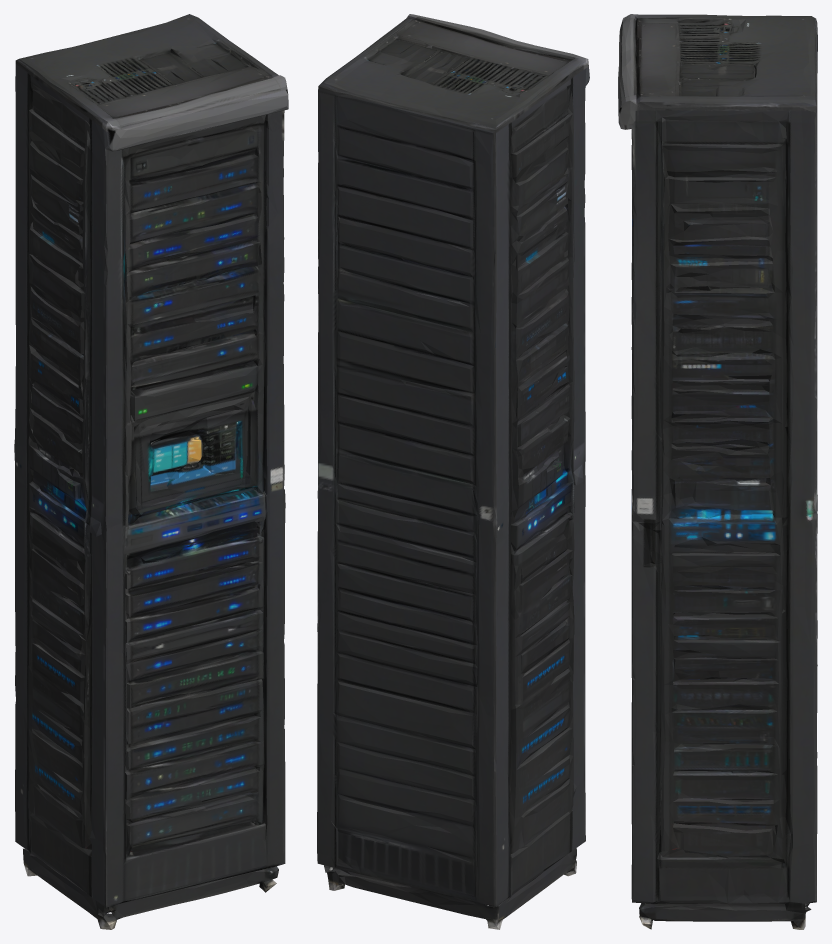
Rendered from 보안실_서버_컴퓨_0524070555_texture.fbx.
3 renders of one model, left to right at view 1: azimuth 30°, elevation 25°; view 2: azimuth 150°, elevation 25°; view 3: azimuth 270°, elevation 25°, orthographic. The views are drawn at different scales.
Parts seen in each view (by area): view 1: temp; view 2: temp; view 3: temp.
Boxes of the visible parts, bbox=[...] form: temp: bbox=[14, 14, 288, 929]; temp: bbox=[317, 14, 589, 929]; temp: bbox=[618, 14, 817, 929].
Bounding box in the file's own units: 48.46 × 200 × 43.39.
Materials: 1 (1 with a texture image).
